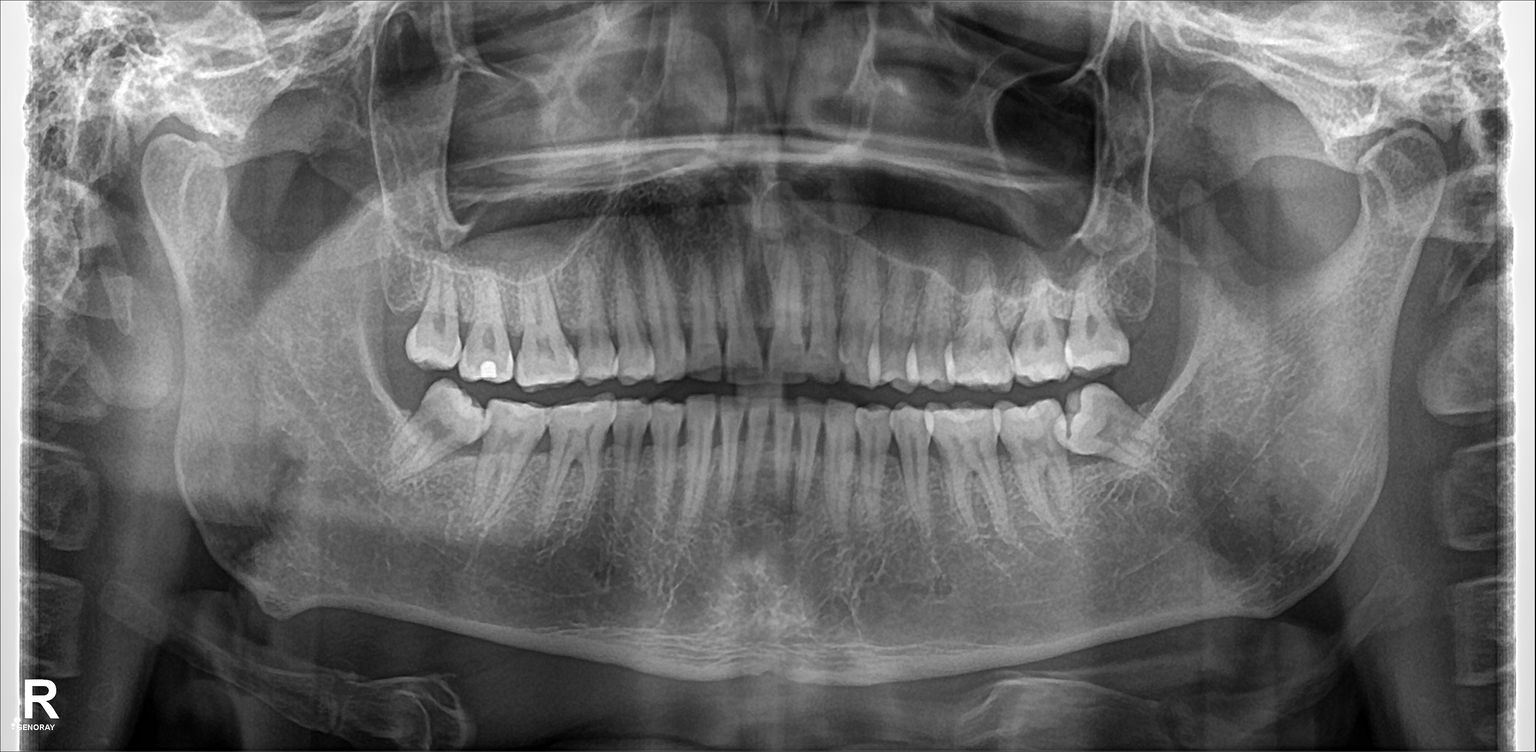Impacted Third Molar: (1073, 382, 1164, 471)
Missing Tooth: (1117, 236, 1175, 341), (369, 266, 417, 352), (359, 370, 407, 441)
